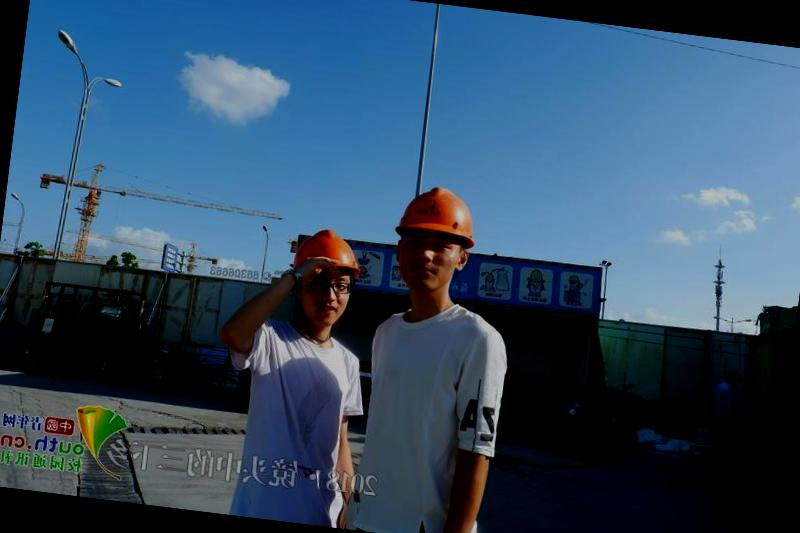helmet: (389, 176, 488, 254), (285, 221, 370, 288)
no_vest: (347, 294, 488, 510), (229, 310, 364, 524)
person: (341, 176, 531, 533), (216, 215, 380, 528)
